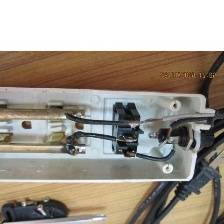three_eye_plug: (0, 78, 220, 191)
